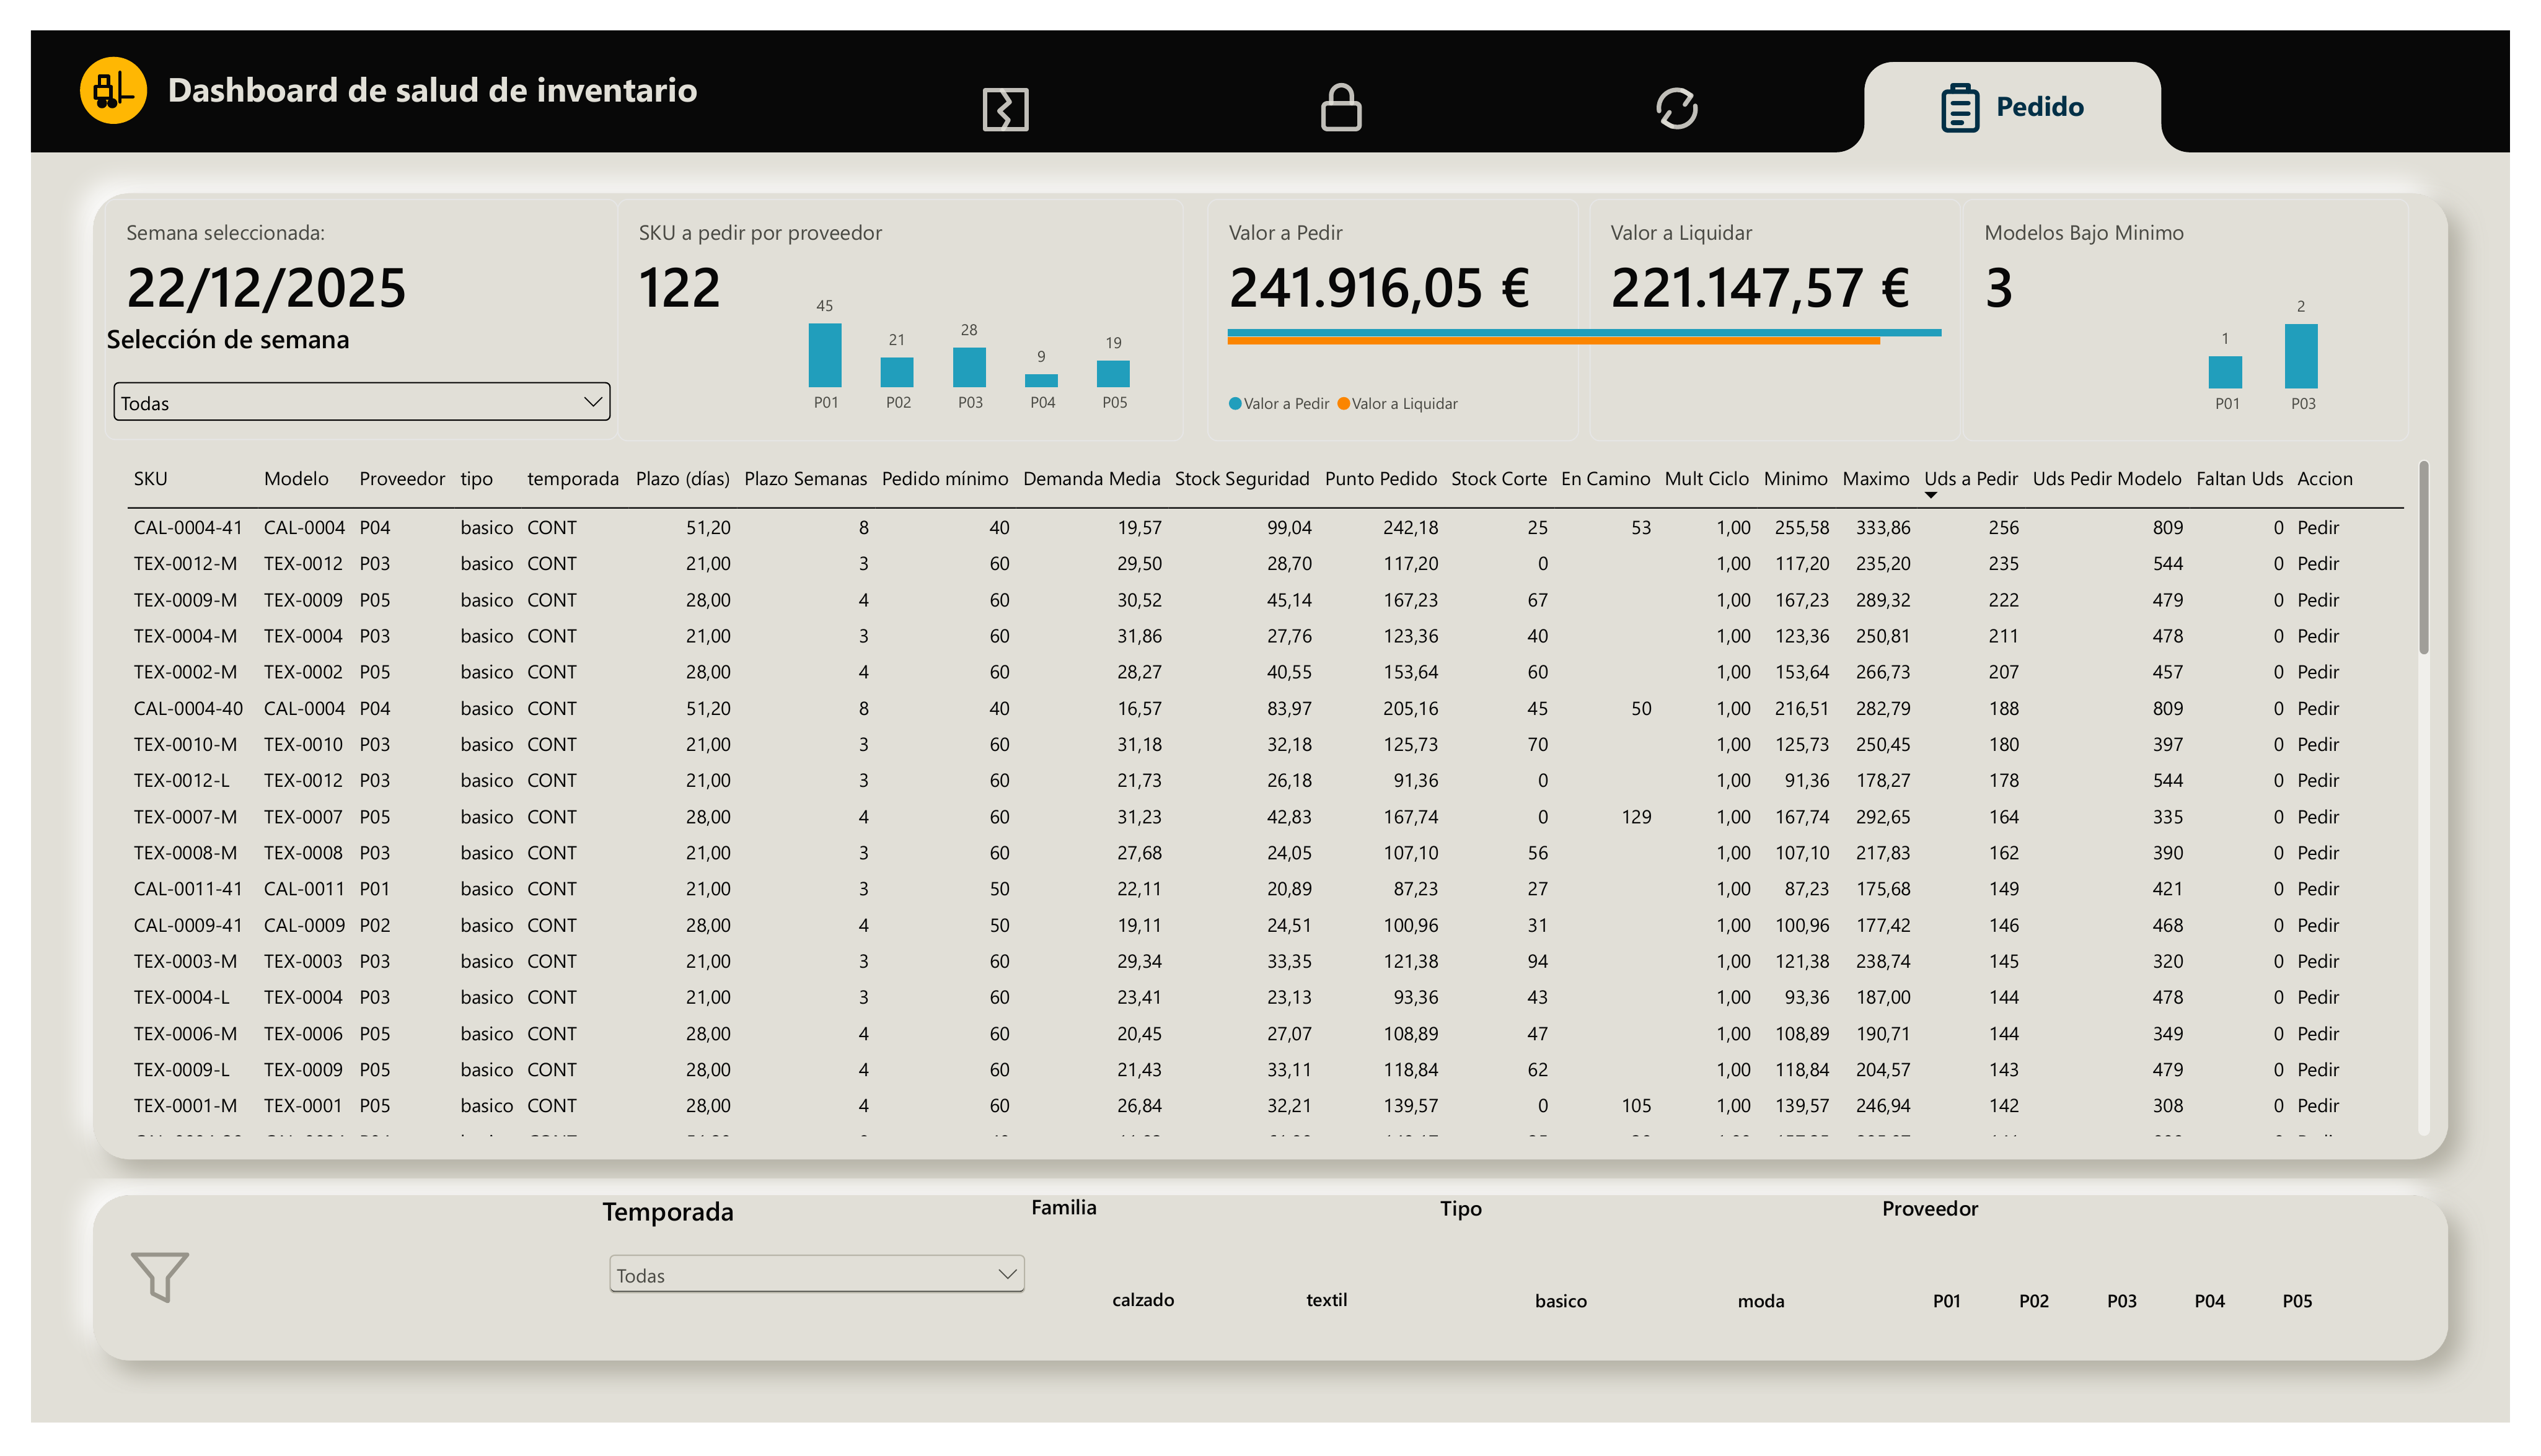

Layout of this report page (visuals, bound fields, positions):
{"tool":"powerbi","page":{"name":"Pedido","canvas":[1920,1080],"ordinal":3},"visuals":[{"type":"cardVisual","fields":{"Data":["_Medidas_Pedido.Semana Corte"]},"box":[57.2,130.1,397.9,187.4],"z":0},{"type":"cardVisual","fields":{"Data":["_Medidas_Pedido.SKU a Pedir"]},"box":[453.5,129.9,439.5,187.8],"z":1000},{"type":"cardVisual","fields":{"Data":["_Medidas_Pedido.Valor a Pedir","_Medidas_Pedido.Valor a Liquidar"]},"box":[911.1,129.9,585.4,187.8],"z":2000},{"type":"cardVisual","fields":{"Data":["_Medidas_Pedido.Modelos Bajo Minimo"]},"box":[1496.4,129.9,345.6,187.8],"z":3000},{"type":"tableEx","fields":{"Values":["dim_producto.id_sku","dim_producto.id_modelo","dim_proveedor.id_proveedor","dim_producto.tipo","dim_producto.temporada","dim_proveedor.LTUsadoDias","dim_producto.PlazoSemanas","dim_proveedor.pedido_minimo_uds","dim_producto.DemandaMedia","dim_producto.StockSeguridad","dim_producto.PuntoPedido","_Medidas_Pedido.Stock Corte"]},"box":[58,318,1816,554],"z":4000},{"type":"columnChart","fields":{"Category":["dim_proveedor.id_proveedor"],"Y":["_Medidas_Pedido.SKU a Pedir"]},"box":[564.3,180.3,327.2,136.9],"z":5000},{"type":"clusteredBarChart","fields":{"Y":["_Medidas_Pedido.Valor a Pedir","_Medidas_Pedido.Valor a Liquidar"]},"box":[911,180,585,138],"z":6000},{"type":"columnChart","fields":{"Category":["dim_proveedor.id_proveedor"],"Y":["_Medidas_Pedido.Modelos Bajo Minimo"]},"box":[1618.3,179.8,225.8,137.9],"z":7000},{"type":"slicer","title":"Selección de semana","fields":{"Values":["Calendario.SemanaLunes"]},"box":[58.6,224.3,395.7,92.9],"z":8000},{"type":"actionButton","box":[74.6,935.1,53.5,49.7],"z":9000},{"type":"slicer","title":"Temporada","fields":{"Values":["dim_producto.temporada"]},"box":[443.3,900,331.7,130],"z":10000},{"type":"advancedSlicerVisual","title":"Tipo","fields":{"Values":["dim_producto.tipo"]},"box":[1092,900.7,342.3,130],"z":11000},{"type":"advancedSlicerVisual","title":"Familia","fields":{"Values":["dim_producto.familia"]},"box":[775,900,316.7,130],"z":12000},{"type":"advancedSlicerVisual","title":"Proveedor","fields":{"Values":["dim_proveedor.id_proveedor"]},"box":[1434.3,900.7,374.8,130],"z":13000},{"type":"actionButton","box":[970,31.2,91.2,55],"z":14000},{"type":"actionButton","box":[1230,31.2,91.2,55],"z":15000},{"type":"actionButton","box":[708.8,31.2,91.2,55],"z":16000}]}

Visuals, with their boxes on the page's 1920x1080 design canvas (x1, y1, x2, y2). These are canvas units, not pixel positions in the 2541x1456 screenshot, which may show the page scaled, cropped or inside an application window:
cardVisual - _Medidas_Pedido.Semana Corte: [x1=57, y1=130, x2=455, y2=318]
cardVisual - _Medidas_Pedido.SKU a Pedir: [x1=454, y1=130, x2=893, y2=318]
cardVisual - _Medidas_Pedido.Valor a Pedir x _Medidas_Pedido.Valor a Liquidar: [x1=911, y1=130, x2=1496, y2=318]
cardVisual - _Medidas_Pedido.Modelos Bajo Minimo: [x1=1496, y1=130, x2=1842, y2=318]
tableEx - dim_producto.id_sku x dim_producto.id_modelo: [x1=58, y1=318, x2=1874, y2=872]
columnChart - dim_proveedor.id_proveedor x _Medidas_Pedido.SKU a Pedir: [x1=564, y1=180, x2=892, y2=317]
clusteredBarChart - _Medidas_Pedido.Valor a Pedir x _Medidas_Pedido.Valor a Liquidar: [x1=911, y1=180, x2=1496, y2=318]
columnChart - dim_proveedor.id_proveedor x _Medidas_Pedido.Modelos Bajo Minimo: [x1=1618, y1=180, x2=1844, y2=318]
"Selección de semana" slicer: [x1=59, y1=224, x2=454, y2=317]
actionButton: [x1=75, y1=935, x2=128, y2=985]
"Temporada" slicer: [x1=443, y1=900, x2=775, y2=1030]
"Tipo" advancedSlicerVisual: [x1=1092, y1=901, x2=1434, y2=1031]
"Familia" advancedSlicerVisual: [x1=775, y1=900, x2=1092, y2=1030]
"Proveedor" advancedSlicerVisual: [x1=1434, y1=901, x2=1809, y2=1031]
actionButton: [x1=970, y1=31, x2=1061, y2=86]
actionButton: [x1=1230, y1=31, x2=1321, y2=86]
actionButton: [x1=709, y1=31, x2=800, y2=86]
